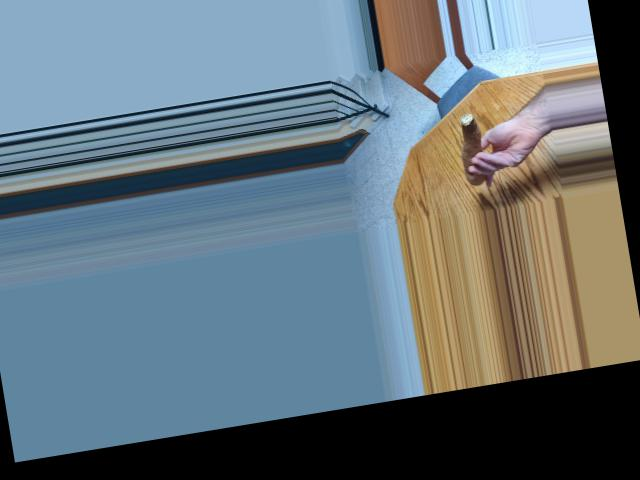sweet_potato: (449, 120, 486, 182)
